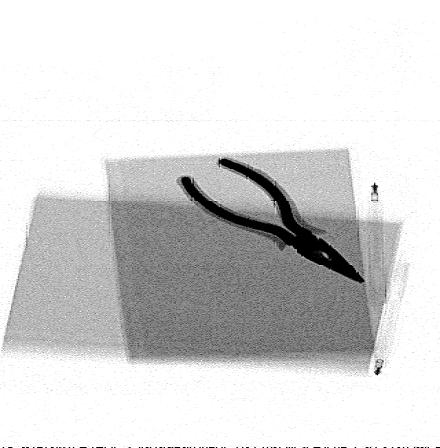Pliers: (175, 156, 370, 284)
